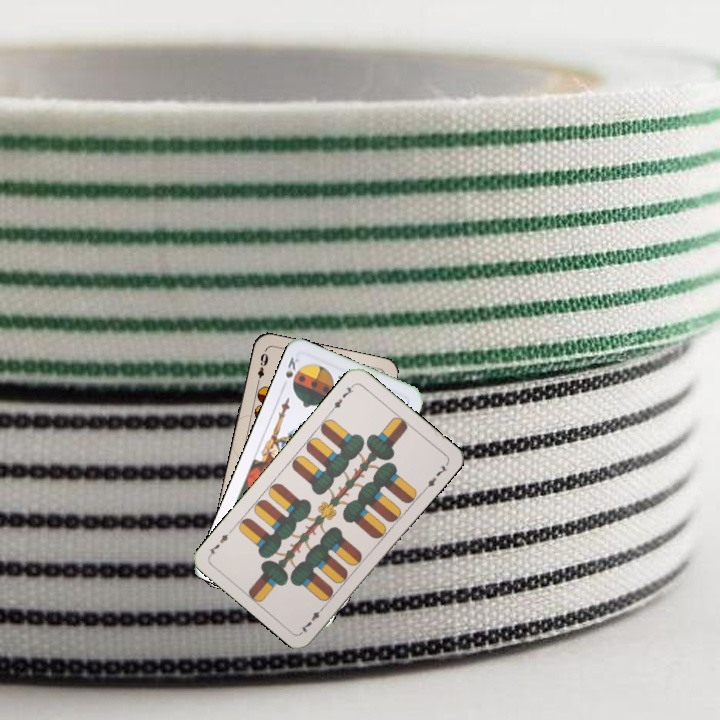E7: (327, 380, 358, 414), (297, 602, 328, 635)
E9: (253, 347, 271, 387)
SK: (281, 353, 302, 380)
